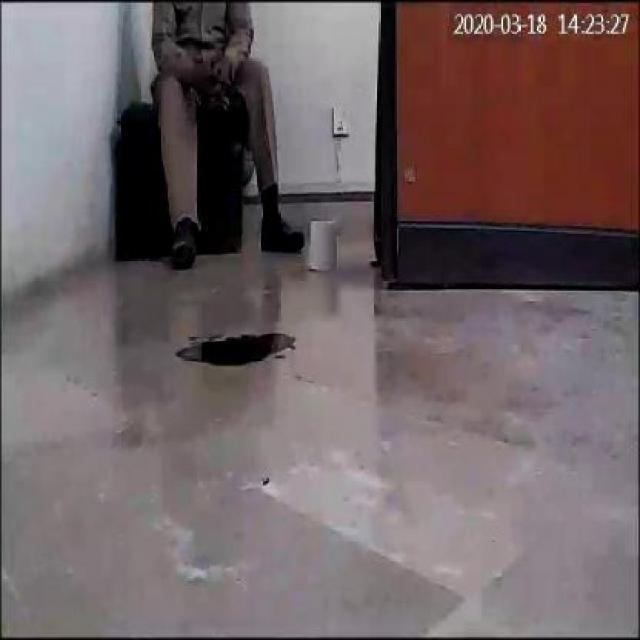spill: (176, 330, 302, 366)
